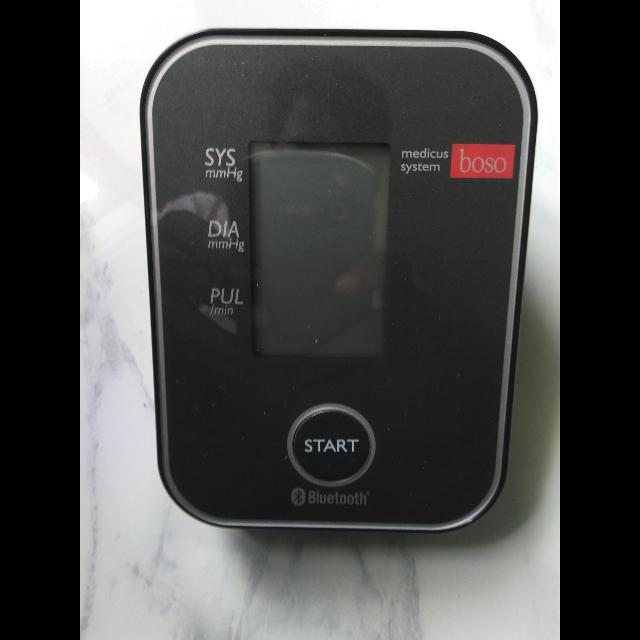Blood-Pressure-Monitor: (122, 16, 536, 526)
